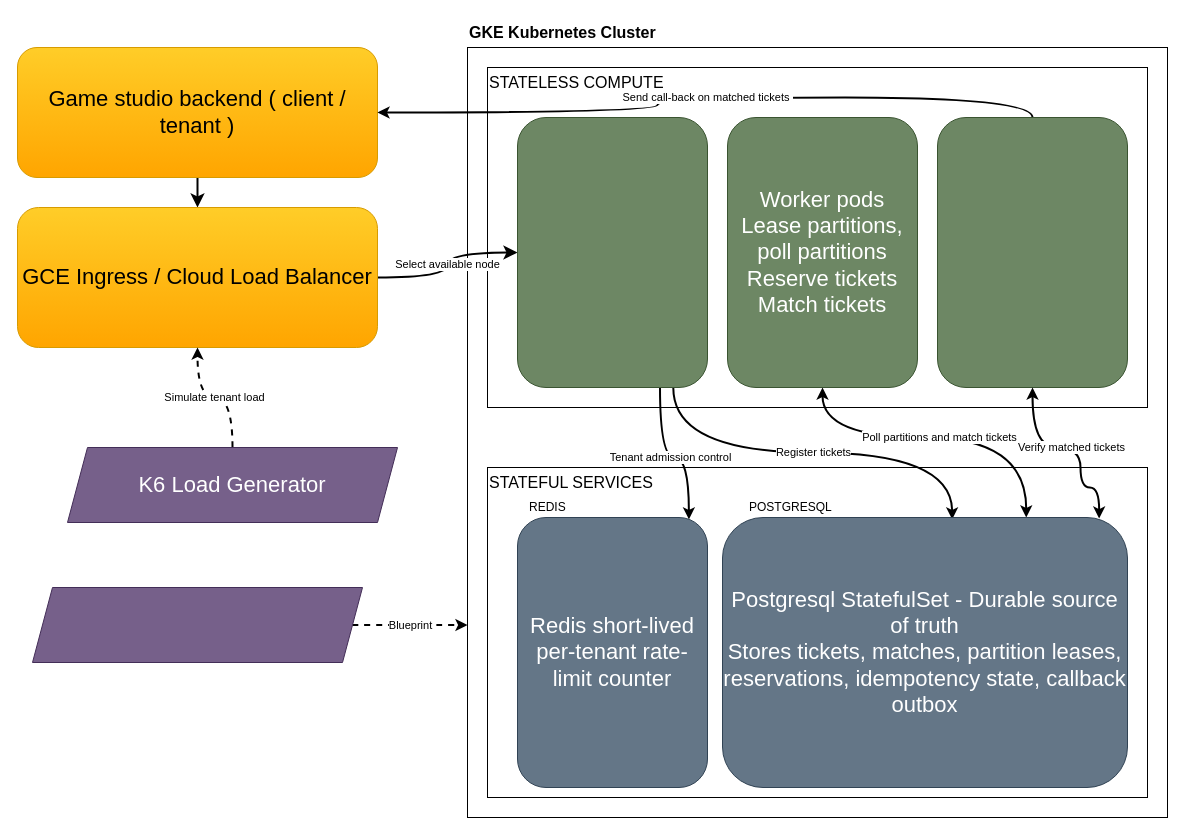
This 1185x835 diagram has some shape labels left out. The box of each missing label's shape, as (x1, y1, x2, y2) in pixels:
API Pods FastAPI + Uvicorn Idempotency and admission Register tickets: (516, 116, 708, 388)
Callback dispatcher pods Retry with backoff and jitter: (936, 116, 1128, 388)
Terraform: (32, 586, 362, 662)
